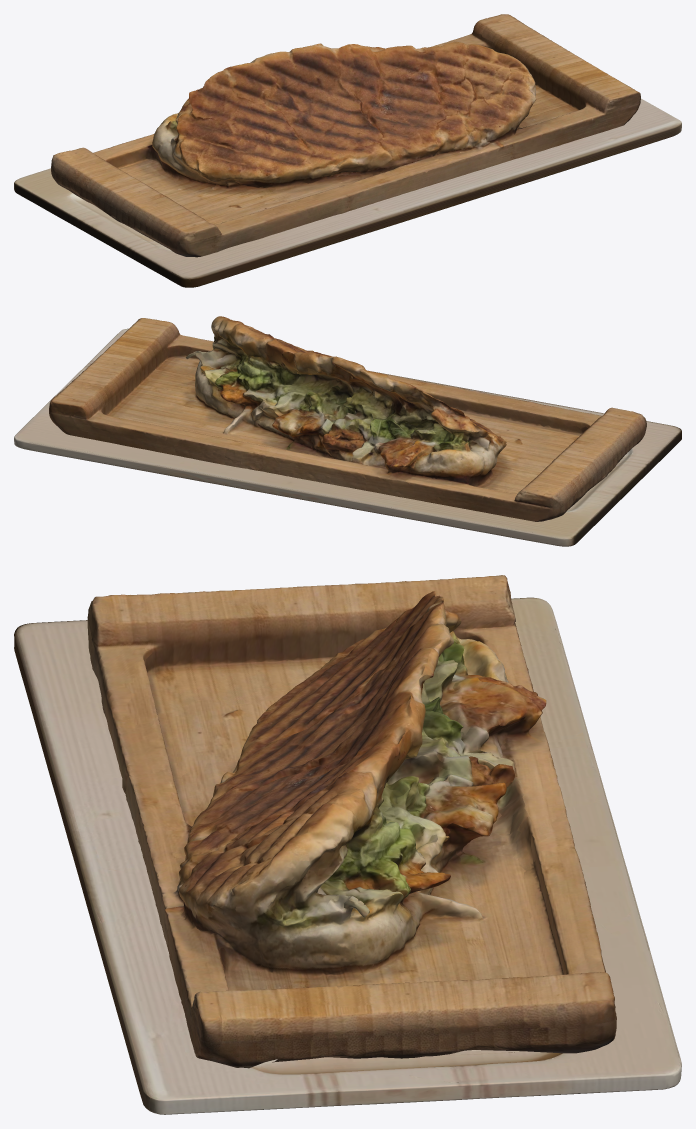
Rendered from sandvich.tost.01.glb.
The picture shows the model from 3 angles, top to bottom: view 1: azimuth 30°, elevation 25°; view 2: azimuth 150°, elevation 25°; view 3: azimuth 270°, elevation 25°; orthographic projection. The views are drawn at different scales.
Parts seen in each view (by area): view 1: /Root/Scenes/Scene/Object_325/Object_326/Submesh_0, /Root/Scenes/Scene/Object_325/Object_329/Object_330/Submesh_; view 2: /Root/Scenes/Scene/Object_325/Object_326/Submesh_0, /Root/Scenes/Scene/Object_325/Object_329/Object_330/Submesh_; view 3: /Root/Scenes/Scene/Object_325/Object_326/Submesh_0, /Root/Scenes/Scene/Object_325/Object_329/Object_330/Submesh_.
Part boxes in pixels (<box>): /Root/Scenes/Scene/Object_325/Object_326/Submesh_0: <box>51,14,640,257</box>; /Root/Scenes/Scene/Object_325/Object_329/Object_330/Submesh_: <box>14,98,681,287</box>; /Root/Scenes/Scene/Object_325/Object_326/Submesh_0: <box>49,316,646,521</box>; /Root/Scenes/Scene/Object_325/Object_329/Object_330/Submesh_: <box>14,328,681,546</box>; /Root/Scenes/Scene/Object_325/Object_326/Submesh_0: <box>87,575,616,1068</box>; /Root/Scenes/Scene/Object_325/Object_329/Object_330/Submesh_: <box>14,597,681,1114</box>.
Size of the model in its own units: 0.3925 by 0.0695 by 0.2203.
Materials: 2 (2 with a texture image).
